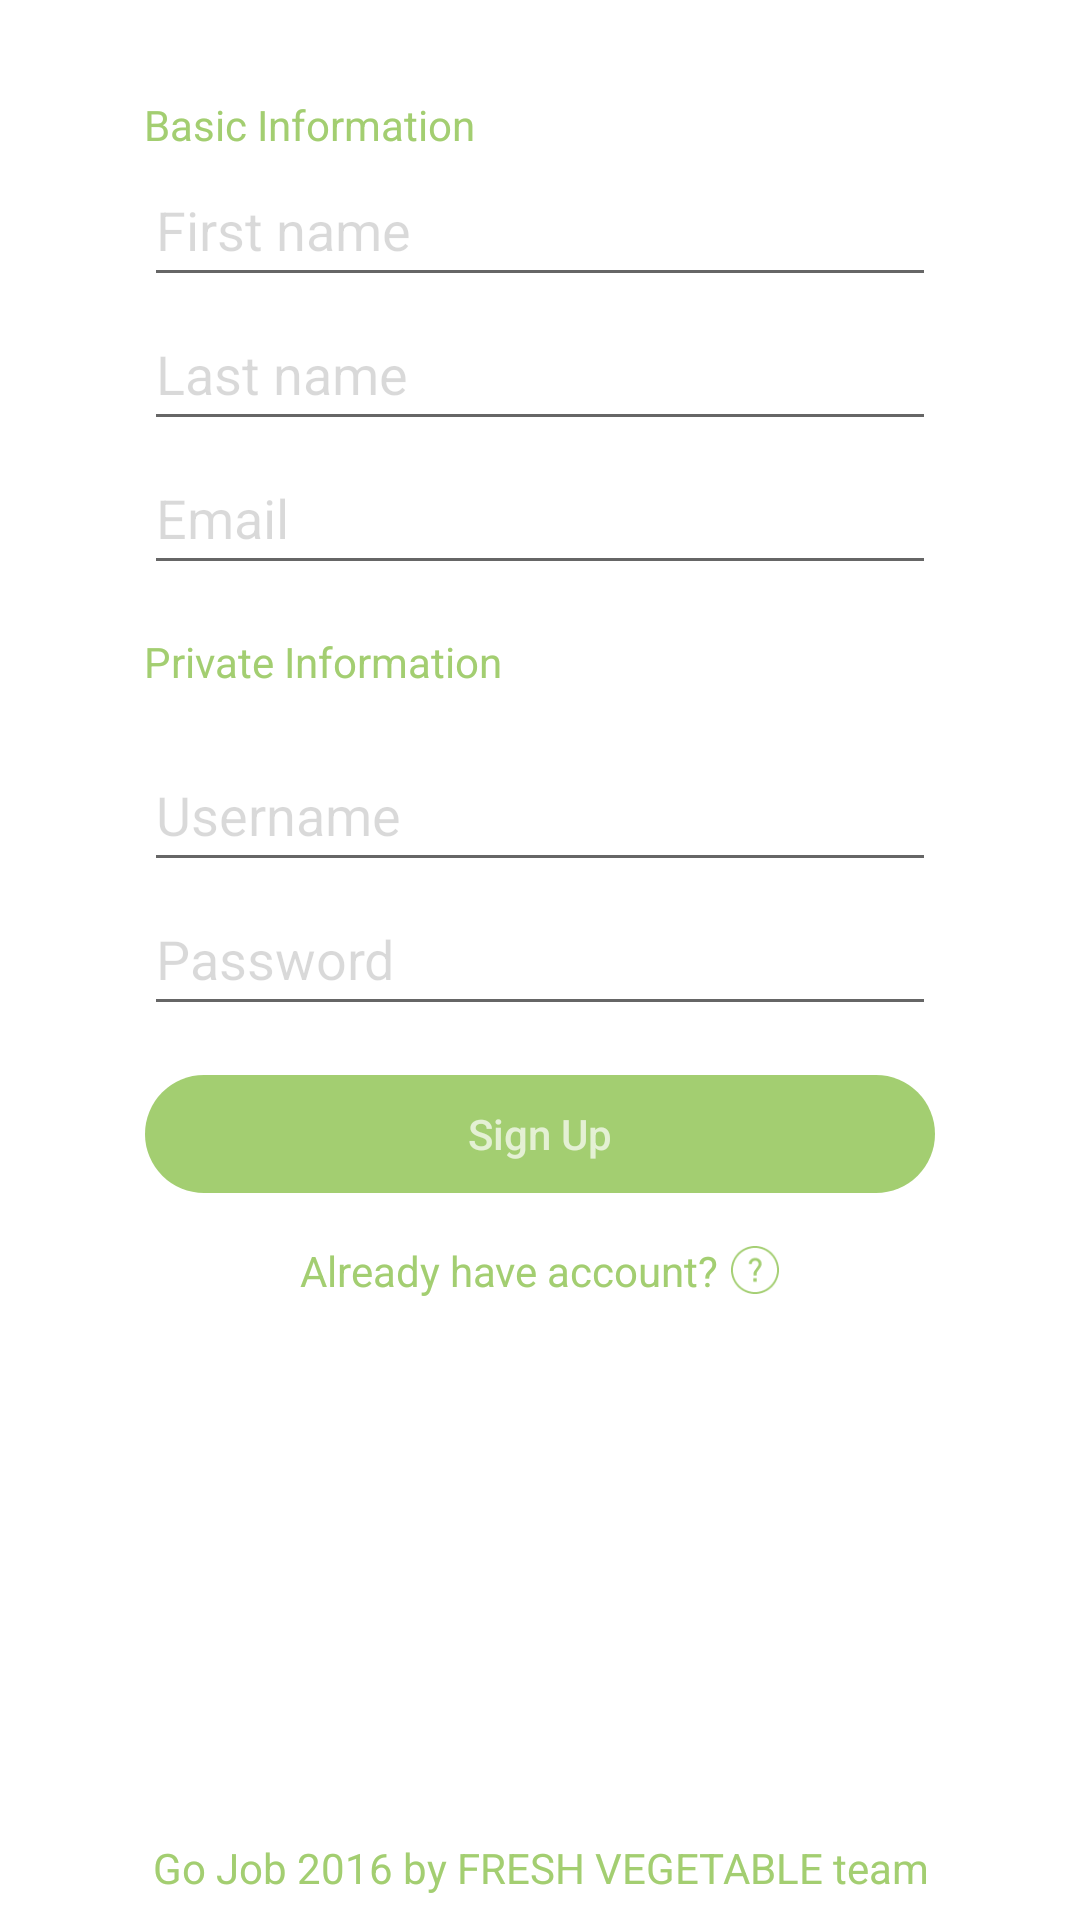

Icons on this 1080*1920 Android screen, each with the point to tap as (x=x, y=y):
help: (x=755, y=1270)
